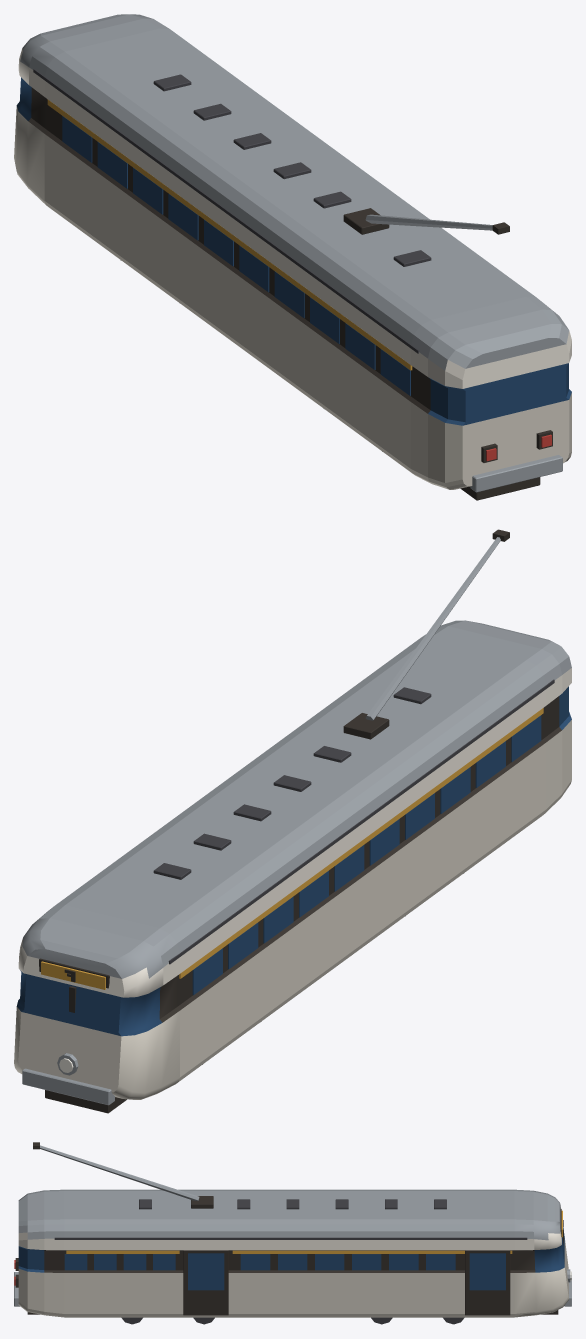
File: f-line-pcc.glb
3 views of the same model, one above another, from view 1: azimuth 30°, elevation 25°; view 2: azimuth 150°, elevation 25°; view 3: azimuth 270°, elevation 25° (orthographic). The views are drawn at different scales.
Parts seen in each view (by area): view 1: body_shell, grp_Toy_glass, grp_Toy_roofd, grp_Toy_steel, grp_Toy_mustard_Glow, grp_Toy_ink; view 2: body_shell, grp_Toy_glass, grp_Toy_roofd, grp_Toy_steel, grp_Toy_mustard_Glow, grp_Toy_ink; view 3: body_shell, grp_Toy_glass, grp_Toy_ink, grp_Toy_roofd, grp_Toy_mustard_Glow, grp_Toy_steel.
Boxes of the visible parts, <box> form: body_shell: <box>14,14,571,489</box>; grp_Toy_glass: <box>62,116,410,395</box>; grp_Toy_roofd: <box>33,69,431,451</box>; grp_Toy_steel: <box>365,214,562,492</box>; grp_Toy_mustard_Glow: <box>47,99,412,370</box>; grp_Toy_ink: <box>343,208,552,500</box>; body_shell: <box>14,620,571,1099</box>; grp_Toy_glass: <box>192,715,541,995</box>; grp_Toy_roofd: <box>153,679,554,1064</box>; grp_Toy_steel: <box>22,537,500,1105</box>; grp_Toy_mustard_Glow: <box>41,708,543,989</box>; grp_Toy_ink: <box>39,529,509,1113</box>; body_shell: <box>18,1189,568,1317</box>; grp_Toy_glass: <box>64,1253,505,1290</box>; grp_Toy_ink: <box>15,1142,563,1315</box>; grp_Toy_roofd: <box>54,1199,527,1324</box>; grp_Toy_mustard_Glow: <box>66,1210,562,1253</box>; grp_Toy_steel: <box>14,1145,571,1306</box>.
Size of the model in its own units: 2.57 by 4.9 by 14.76.
